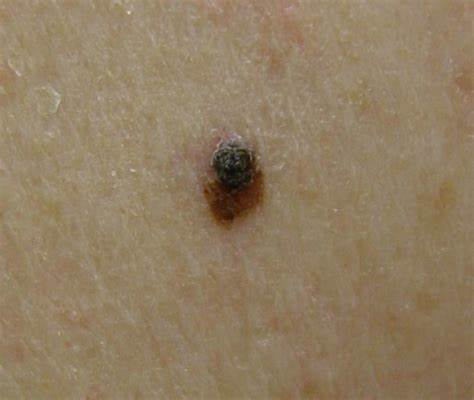melanoma: (180, 122, 282, 235)
